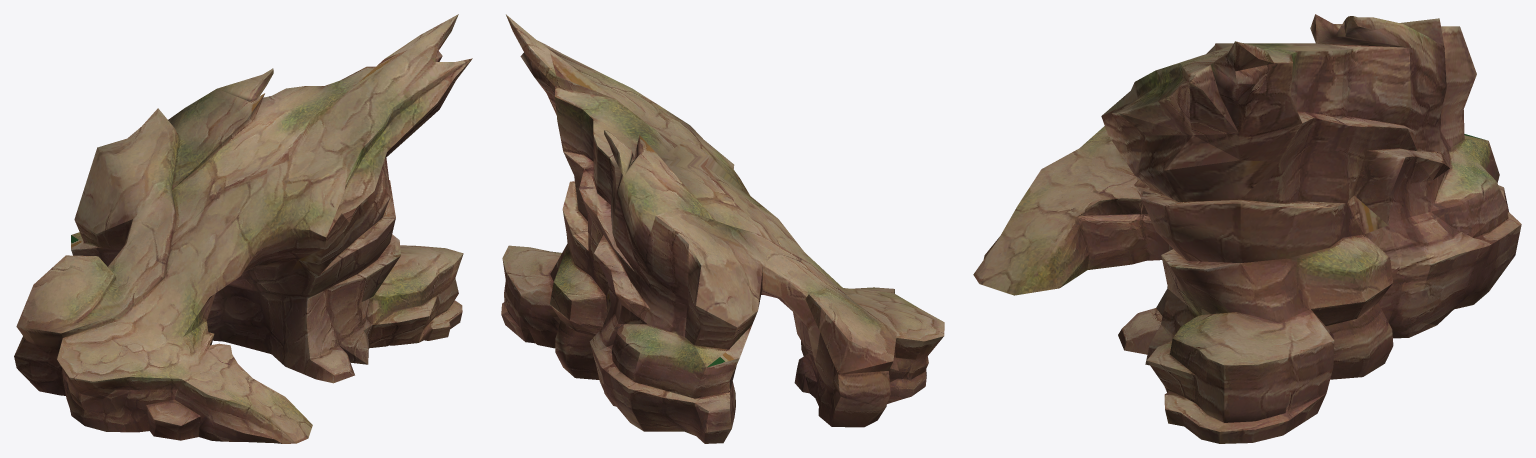
File: stone_04.FBX
3 views of the same model, side by side, from view 1: azimuth 30°, elevation 25°; view 2: azimuth 150°, elevation 25°; view 3: azimuth 270°, elevation 25° (orthographic). The views are drawn at different scales.
Visible parts, largest first — view 1: stone_04; view 2: stone_04; view 3: stone_04.
Boxes of the visible parts, left/top/right/bottom form: stone_04: left=14, top=14, right=472, bottom=443; stone_04: left=501, top=14, right=944, bottom=443; stone_04: left=973, top=14, right=1521, bottom=443.
Size of the model in its own units: 69.94 by 47.54 by 58.16.
